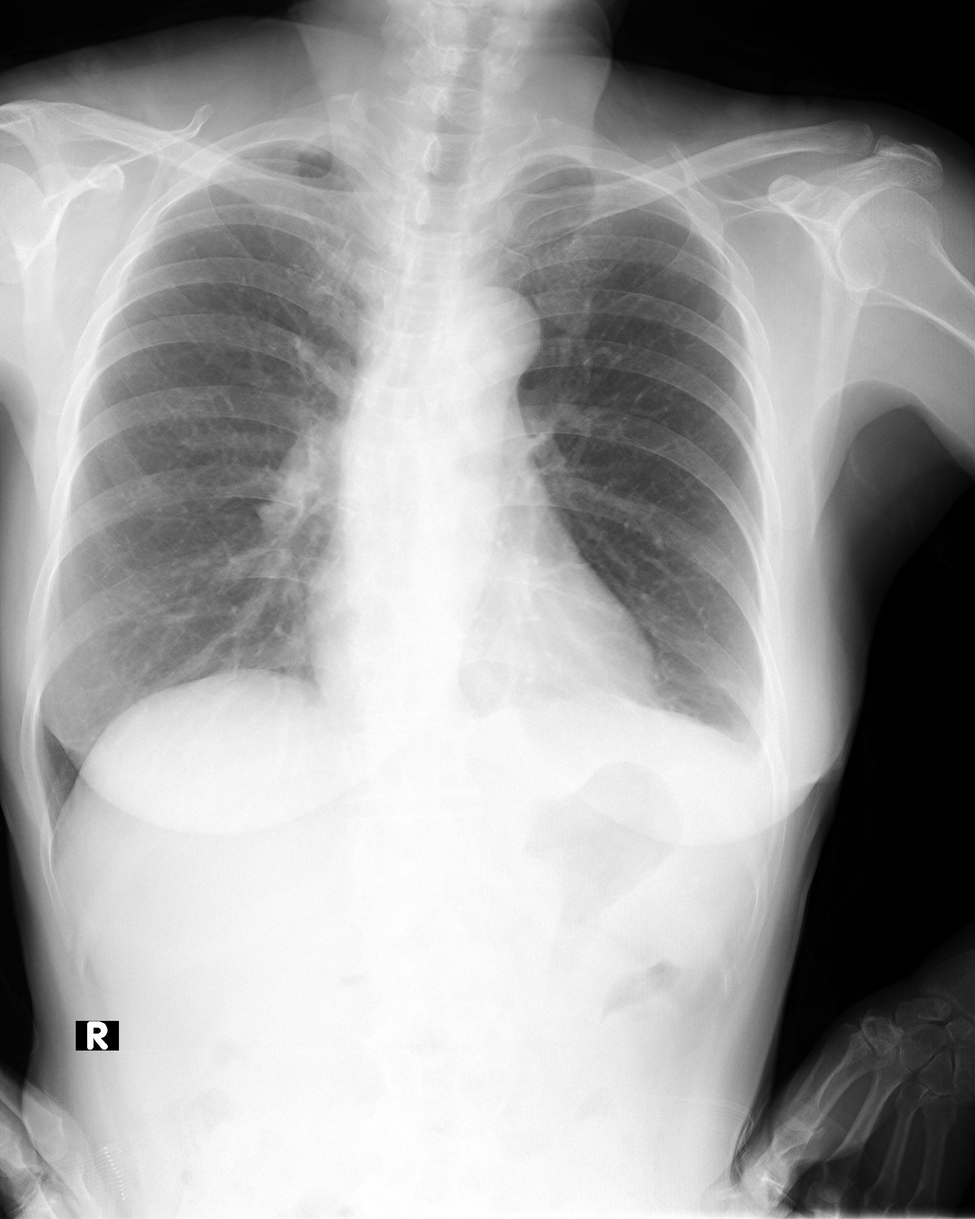Aortic enlargement: (439, 276, 543, 403)
Pleural thickening: (741, 726, 777, 779)
